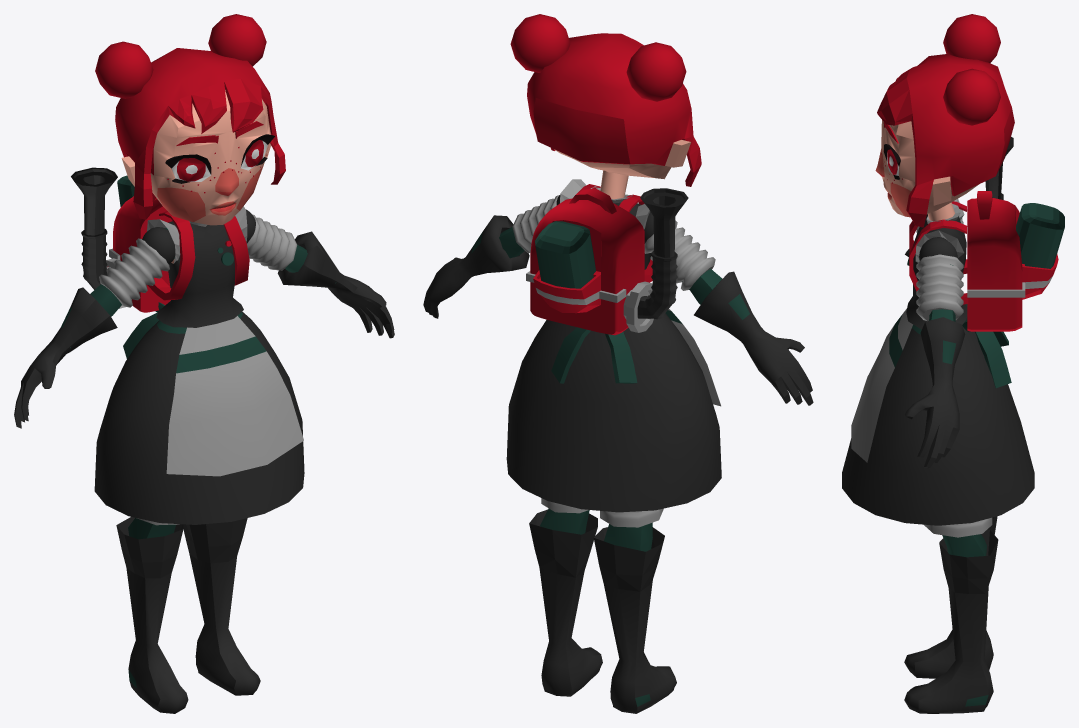
Rendered from penelope_tpose_small.FBX.
3 views of the same model, side by side, from view 1: azimuth 30°, elevation 25°; view 2: azimuth 150°, elevation 25°; view 3: azimuth 270°, elevation 25° (orthographic). The views are drawn at different scales.
Visible parts, largest first — view 1: Penelope; view 2: Penelope; view 3: Penelope.
Part boxes in pixels (x1,y1,x2,y2): Penelope: (14, 14, 394, 713); Penelope: (423, 14, 813, 713); Penelope: (842, 14, 1064, 713).
Size of the model in its own units: 182 by 299 by 93.66.
